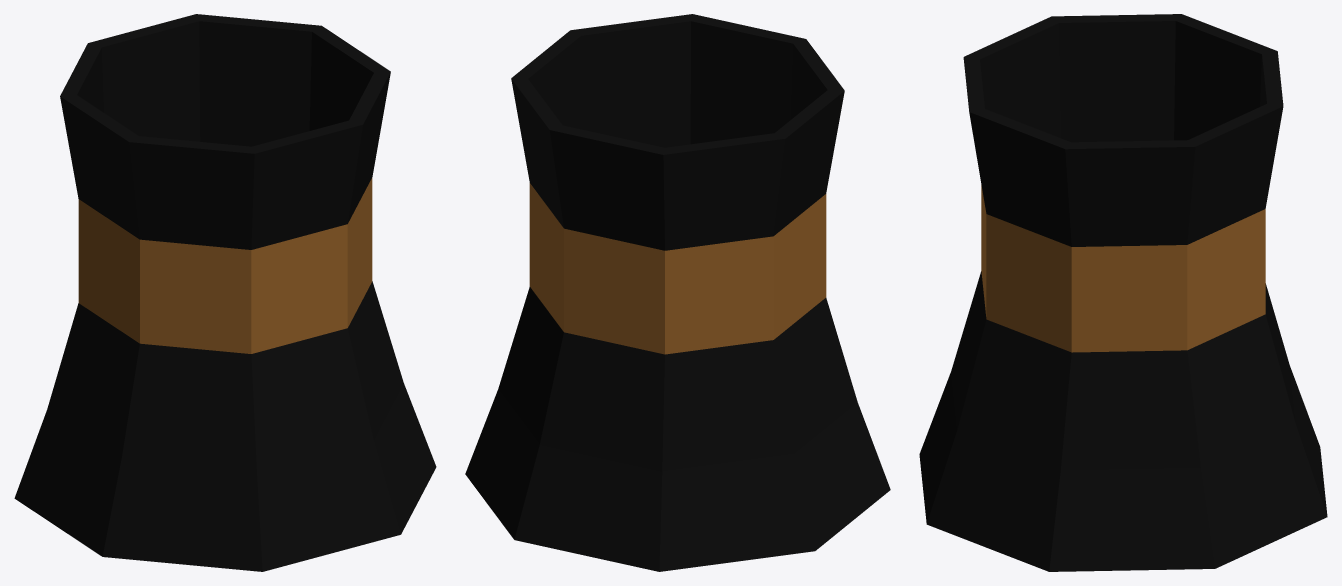
File: factory_tower_2.FBX
3 views of the same model, side by side, from view 1: azimuth 30°, elevation 25°; view 2: azimuth 150°, elevation 25°; view 3: azimuth 270°, elevation 25° (orthographic).
Parts seen in each view (by area): view 1: factory_tower_2; view 2: factory_tower_2; view 3: factory_tower_2.
Boxes of the visible parts, left/top/right/bottom form: factory_tower_2: left=14, top=14, right=436, bottom=571; factory_tower_2: left=465, top=14, right=890, bottom=571; factory_tower_2: left=919, top=14, right=1327, bottom=571.
Bounding box in the file's own units: 131 × 144 × 131.
